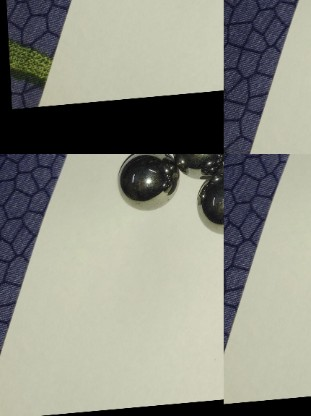ironball: (116, 153, 177, 212), (195, 172, 222, 232), (175, 153, 222, 175)
